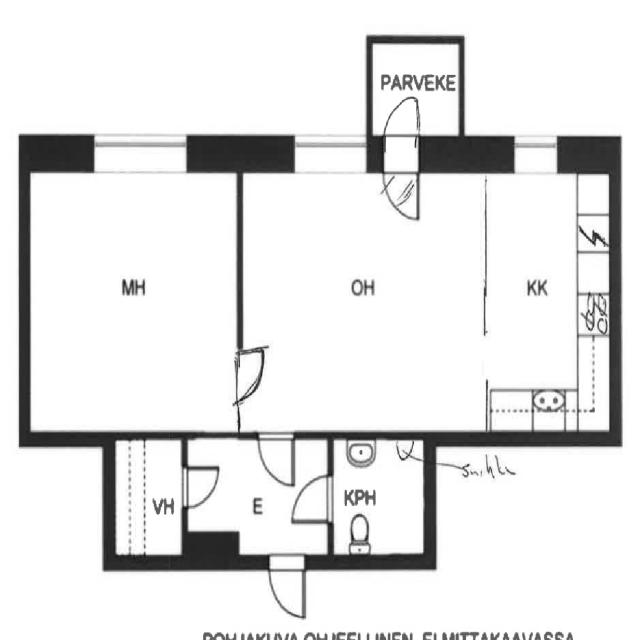door: (376, 40, 448, 158), (379, 88, 427, 200), (225, 338, 270, 417), (290, 468, 340, 530), (266, 553, 309, 624), (255, 428, 297, 492), (177, 459, 224, 513)
window: (84, 125, 197, 183), (283, 119, 368, 183), (505, 124, 568, 176)
zone: (235, 152, 491, 432), (25, 157, 241, 435), (477, 161, 615, 433), (183, 437, 327, 562), (330, 433, 428, 562), (371, 40, 462, 142), (112, 435, 183, 563), (240, 428, 302, 516)
